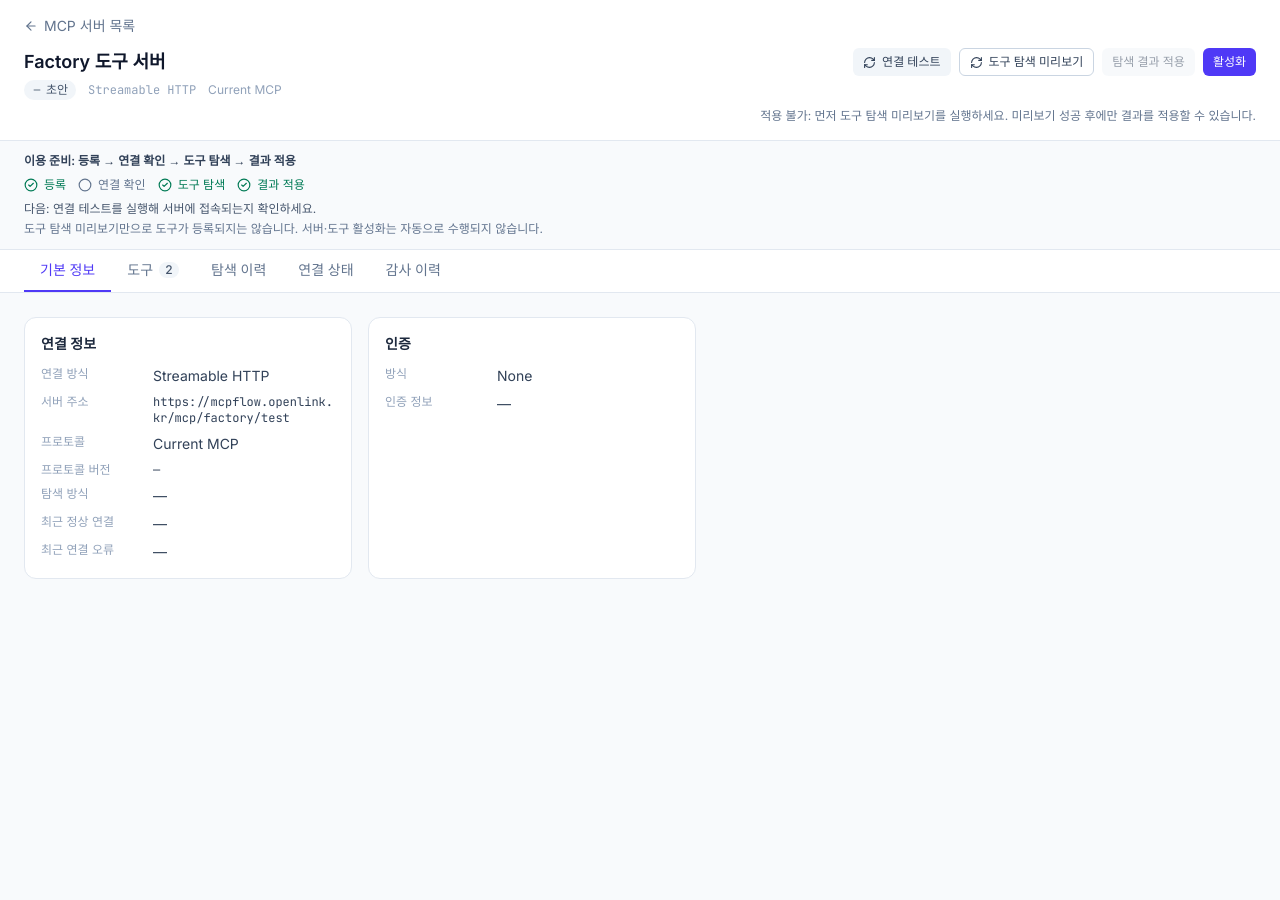
Factory Discovery contract evidence and apply fail-closed › non-Factory Discovery still follows the ordinary preview/apply contract
Expected: the heading "Factory 도구 서버" is shown, left=24, top=51, right=166, bottom=72
Click the button "도구 탐색 미리보기".
click(1026, 62)  # box left=958, top=48, right=1094, bottom=76
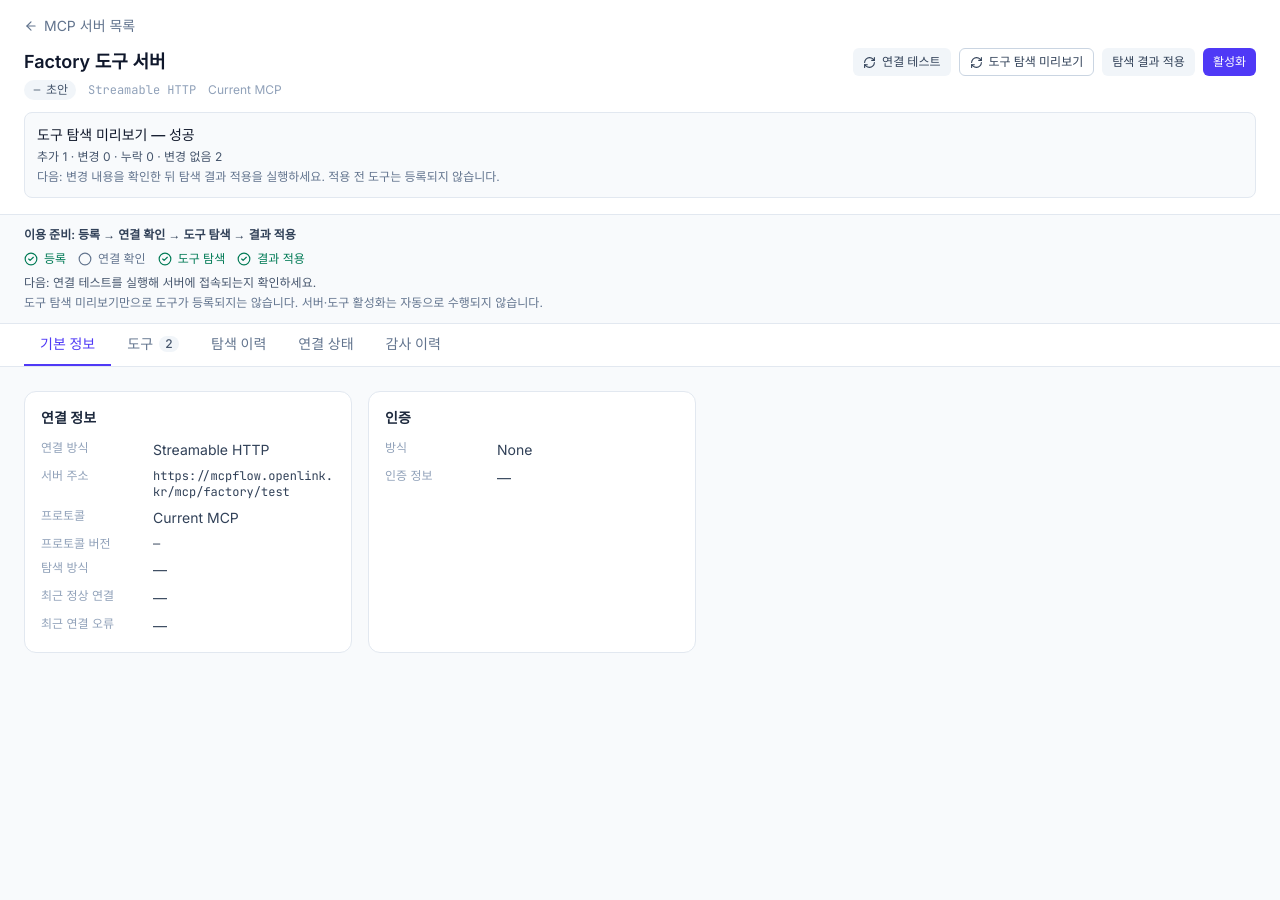
Result: the text "도구 탐색 미리보기 — 성공" is shown at left=37, top=126, right=195, bottom=143
Result: the button "탐색 결과 적용" is enabled at left=1102, top=48, right=1195, bottom=76
